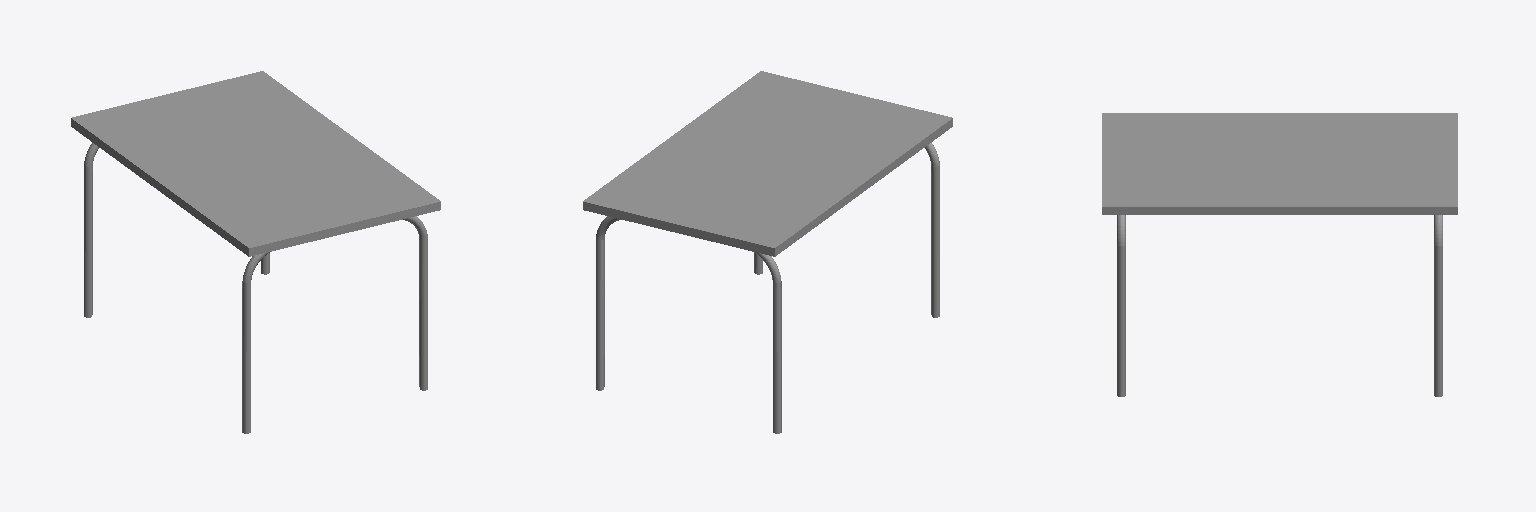
The model's file is Tisch.obj.
3 views of the same model, side by side, from view 1: azimuth 30°, elevation 25°; view 2: azimuth 150°, elevation 25°; view 3: azimuth 270°, elevation 25° (orthographic).
Visible parts, largest first — view 1: Tisch.001_Cylinder.000, Tisch_Cylinder.004; view 2: Tisch.001_Cylinder.000, Tisch_Cylinder.004; view 3: Tisch.001_Cylinder.000, Tisch_Cylinder.004.
Part boxes in pixels (bbox=[...]): Tisch.001_Cylinder.000: bbox=[71, 71, 440, 256]; Tisch_Cylinder.004: bbox=[84, 142, 427, 433]; Tisch.001_Cylinder.000: bbox=[583, 71, 952, 256]; Tisch_Cylinder.004: bbox=[596, 142, 939, 433]; Tisch.001_Cylinder.000: bbox=[1102, 113, 1457, 214]; Tisch_Cylinder.004: bbox=[1117, 215, 1442, 396].
Bounding box in the file's own units: 5.6 × 5.37 × 9.